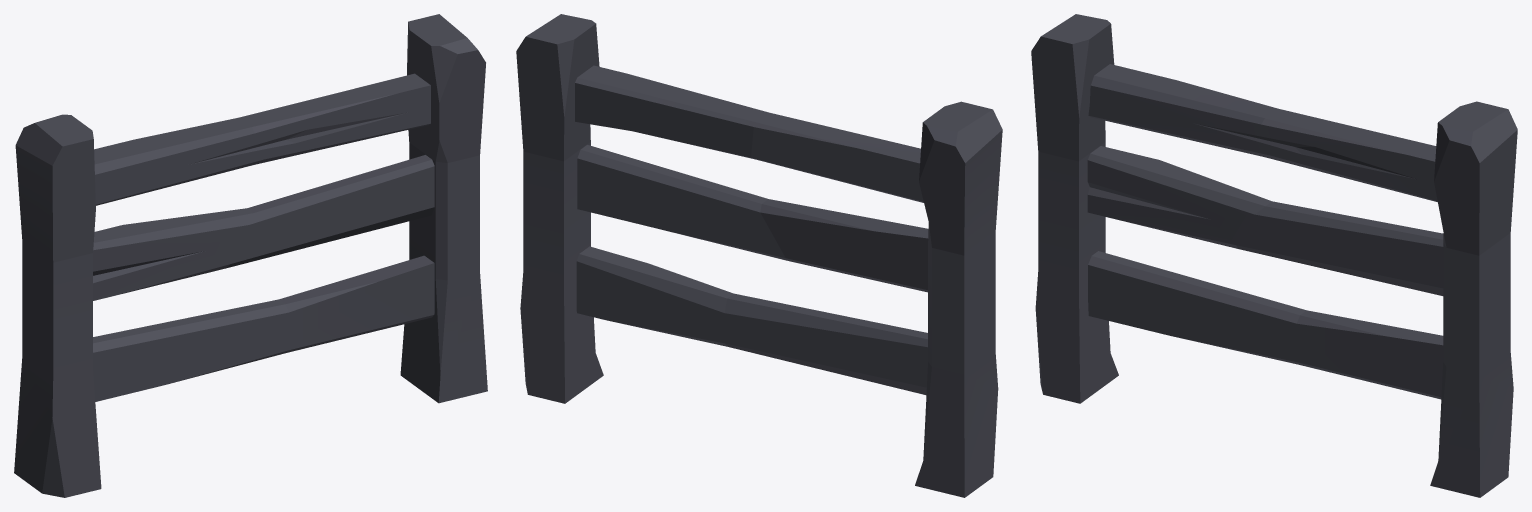
File: Fence_5.fbx
3 renders of one model, left to right at view 1: azimuth 30°, elevation 25°; view 2: azimuth 150°, elevation 25°; view 3: azimuth 330°, elevation 25°, orthographic.
Visible parts, largest first — view 1: Fence_5; view 2: Fence_5; view 3: Fence_5.
Part boxes in pixels (x1=…): Fence_5: x1=14, y1=14, x2=487, y2=497; Fence_5: x1=516, y1=14, x2=1002, y2=497; Fence_5: x1=1031, y1=14, x2=1517, y2=497.
Bounding box in the file's own units: 53.2 × 40.75 × 8.75.
